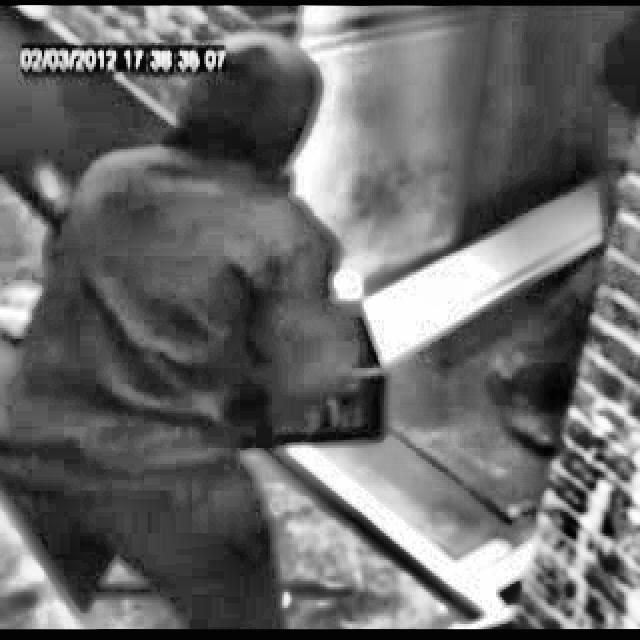burglary: (32, 29, 395, 467)
